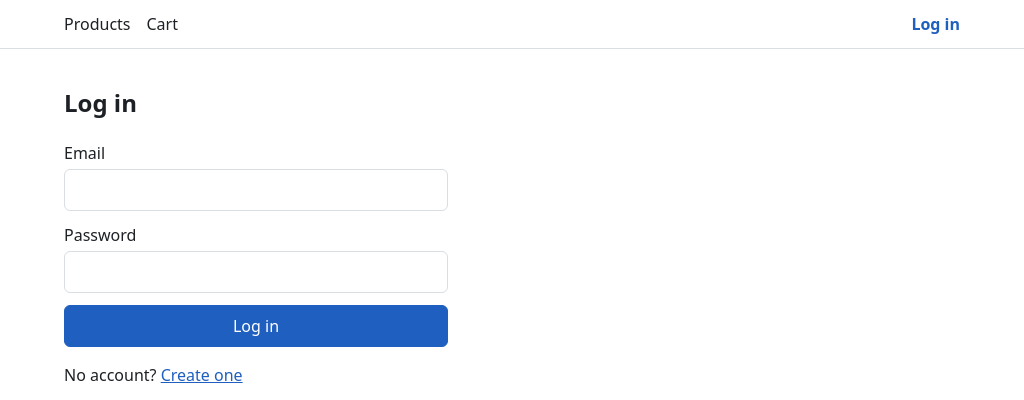
it: logging in › a protected page sends you to log in, and back there afterwards
Expected: the heading "Log in" is shown, [64, 86, 137, 119]
In the field labelled "Email": x=256, y=190 [64, 169, 448, 211], type "ada@example.com"
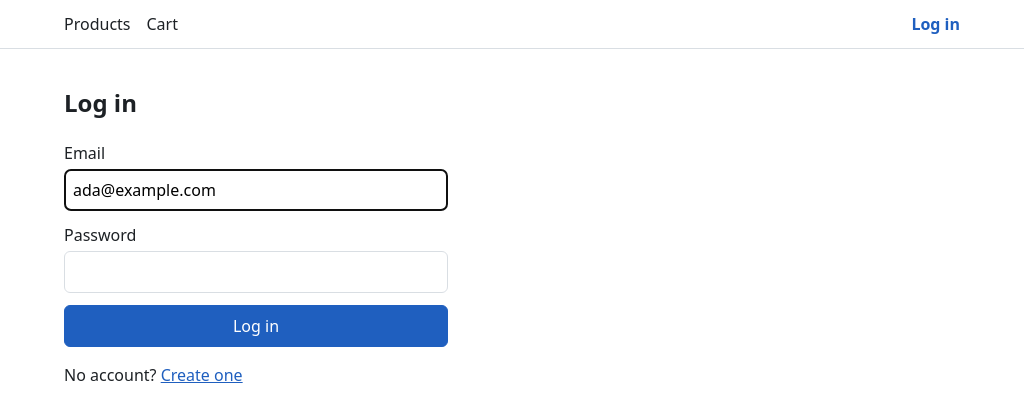
In the password field labelled "Password": x=256, y=272 [64, 251, 448, 293], type "correct horse battery"
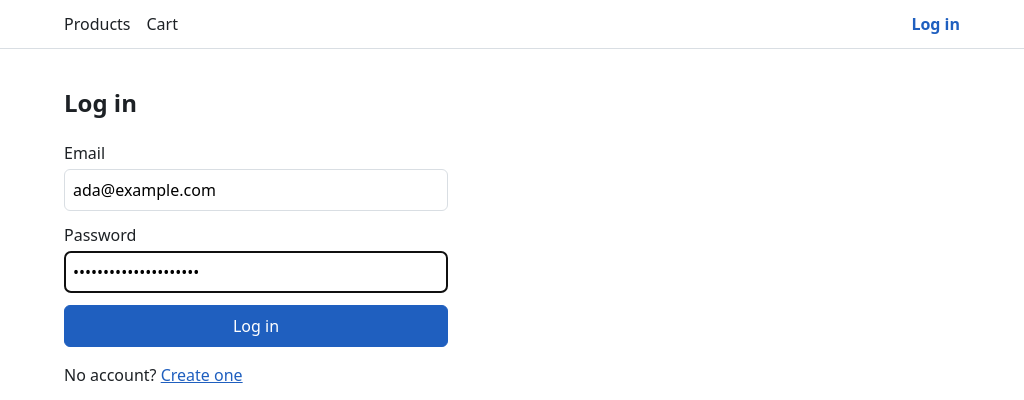
Click the button "Log in": x=256, y=326 [64, 305, 448, 347]
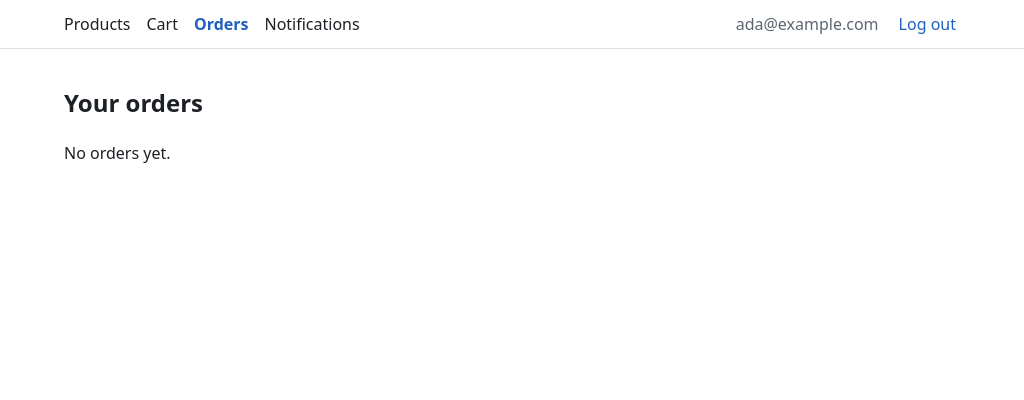
Expected: the heading "Your orders" is shown, [64, 86, 203, 119]
Expected: the text "ada@example.com" is shown, [736, 12, 879, 36]
